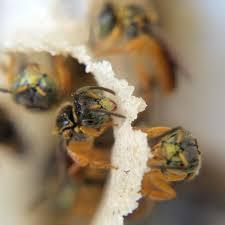Meliponula: (91, 1, 204, 103), (54, 83, 123, 173), (141, 112, 205, 202), (7, 55, 61, 113)
